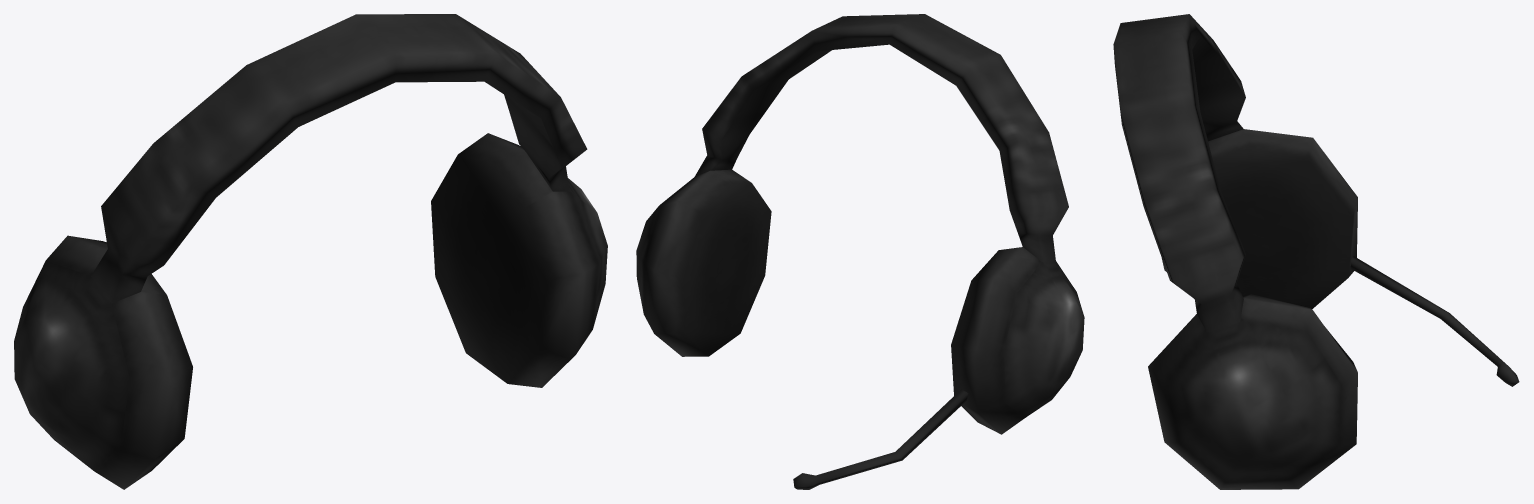
Rendered from headphone3.glb.
3 renders of one model, left to right at view 1: azimuth 30°, elevation 25°; view 2: azimuth 150°, elevation 25°; view 3: azimuth 270°, elevation 25°, orthographic. The views are drawn at different scales.
Visible parts, largest first — view 1: headphone3; view 2: headphone3; view 3: headphone3.
Boxes of the visible parts, x1=… form: headphone3: x1=14, y1=14, x2=607, y2=489; headphone3: x1=636, y1=14, x2=1084, y2=489; headphone3: x1=1113, y1=14, x2=1519, y2=489.
Size of the model in its own units: 0.3336 by 0.2606 by 0.2506.
Materials: 1 (1 with a texture image).
